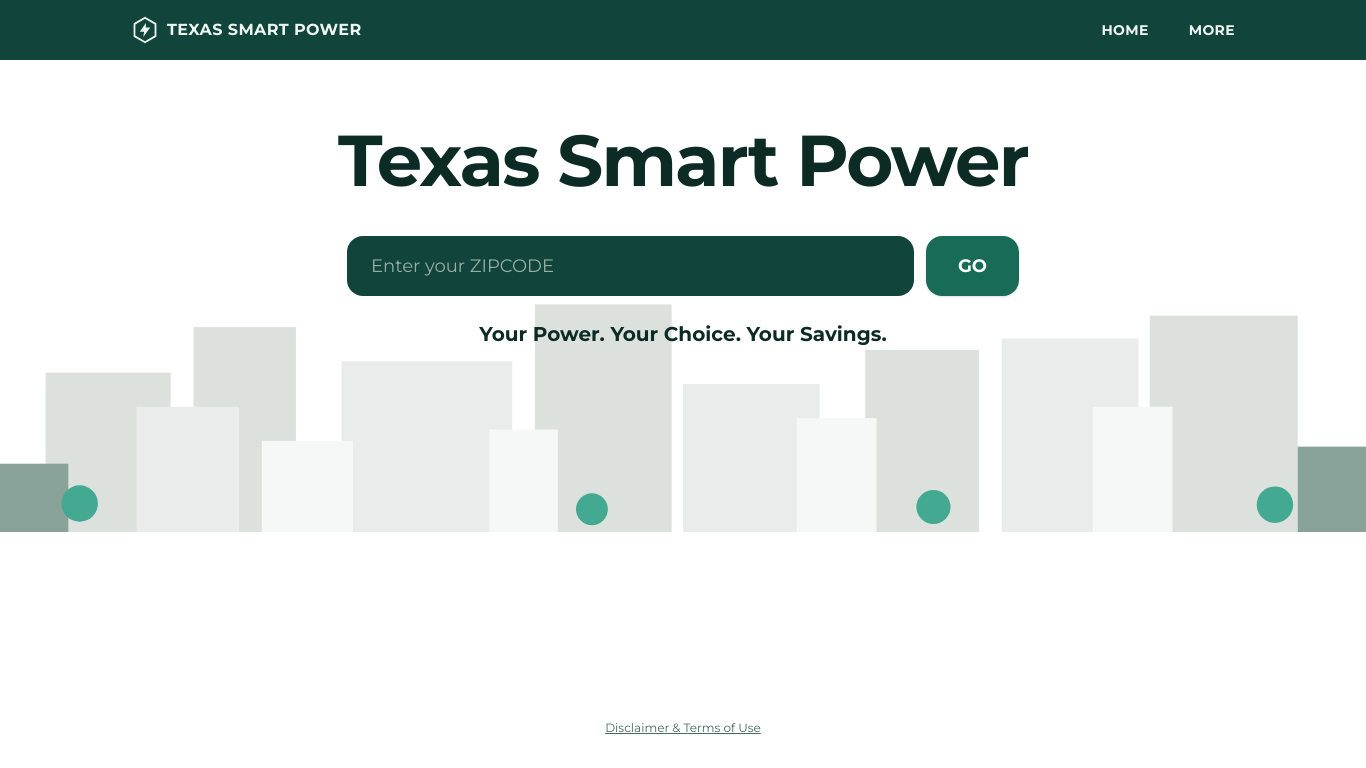
it: changing the ZIP on the plans page stays on the page, keeps usage, and loads the new area
The width and height of the screenshot is (1366, 768).
Type "75201" into the field named "zip code" at x=630, y=266, box x1=347 y1=236 x2=914 y2=296
Click the button "GO" at x=972, y=266, box x1=926 y1=236 x2=1019 y2=296
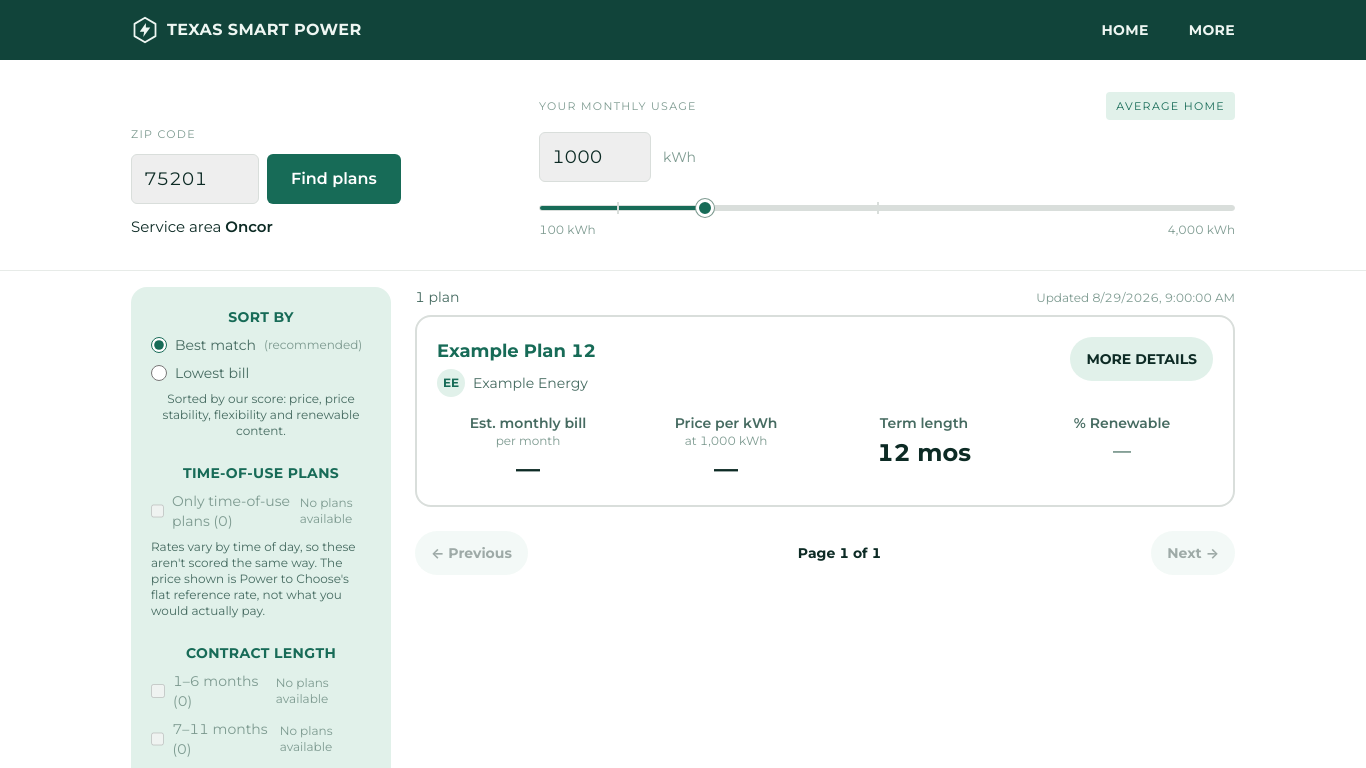
Now the heading "Example Plan 12" is shown, box x1=437 y1=337 x2=596 y2=365
Replace the text in the number field named "monthly usage in kWh" with "750" at x=595, y=157, box x1=539 y1=132 x2=651 y2=182
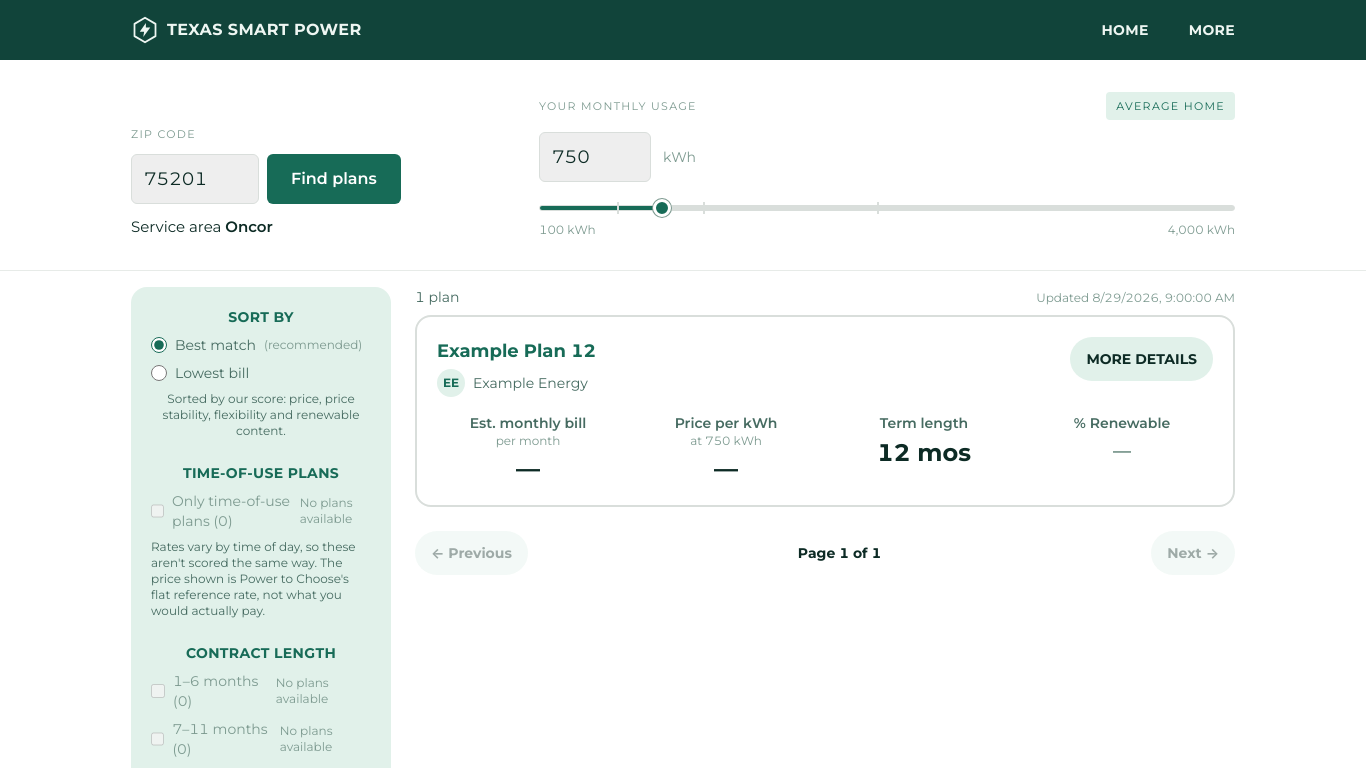
Replace the text in the field labelled "ZIP code" with "99999" at x=195, y=178, box x1=131 y1=154 x2=259 y2=204
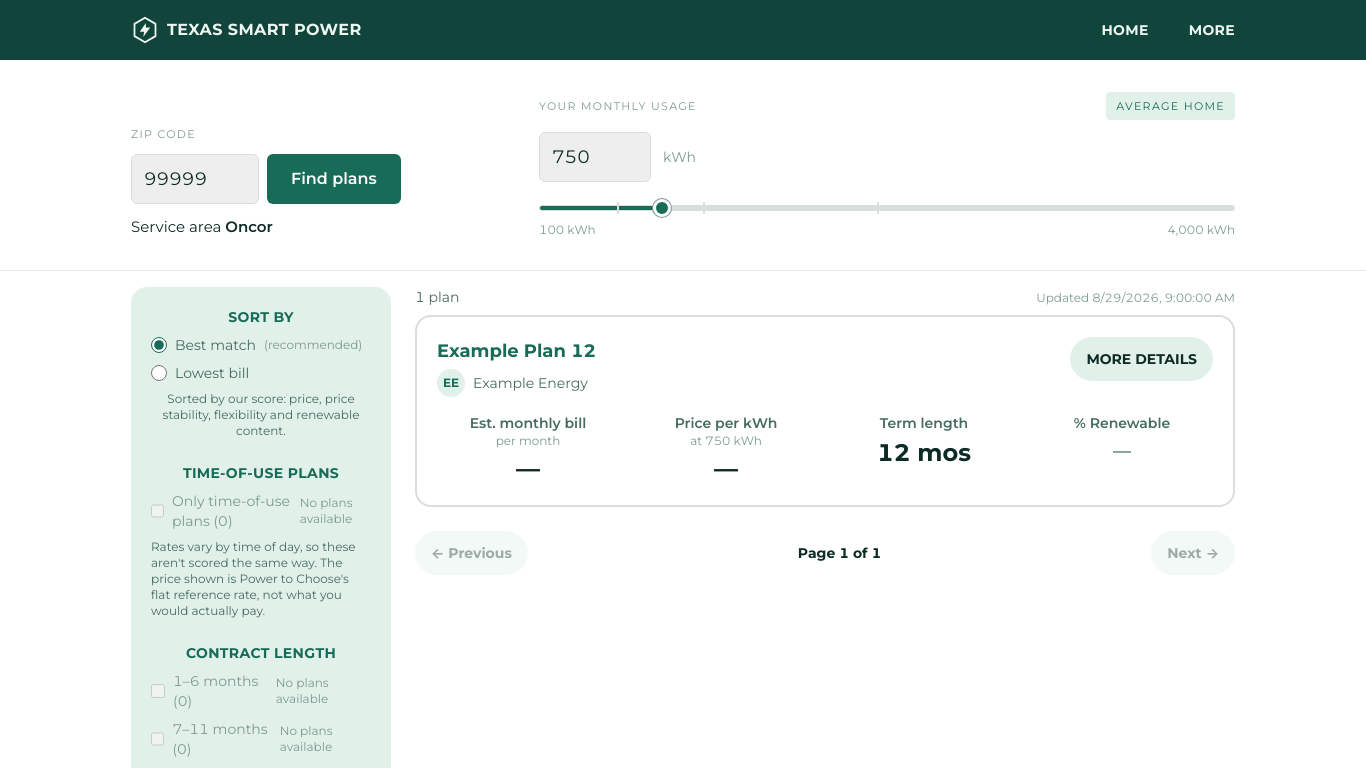
Click the button "Find plans" at x=334, y=178, box x1=267 y1=154 x2=401 y2=204
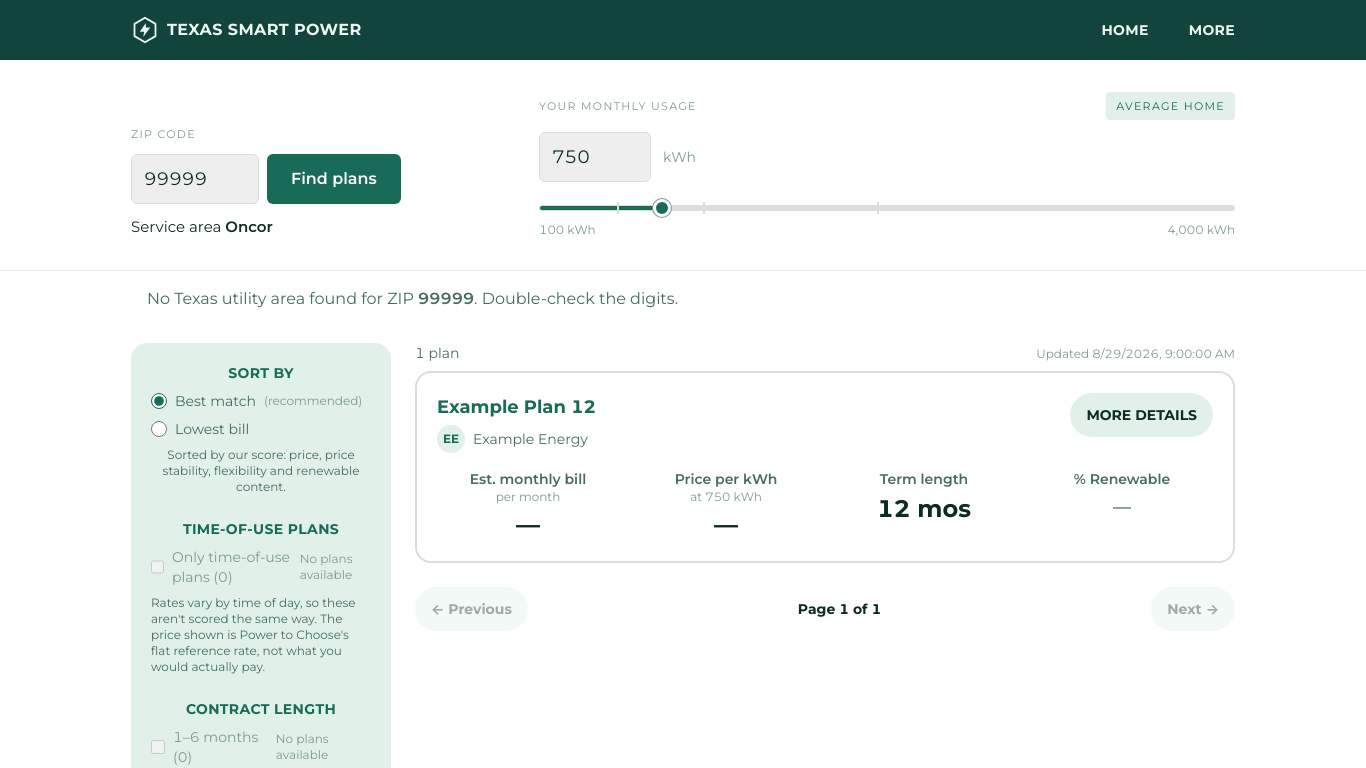
Now the heading "Example Plan 12" is shown, box x1=437 y1=393 x2=596 y2=421
Now the text "No Texas utility area found for ZIP" is shown, box x1=147 y1=289 x2=414 y2=308
Replace the text in the field labelled "ZIP code" with "77002" at x=195, y=178, box x1=131 y1=154 x2=259 y2=204
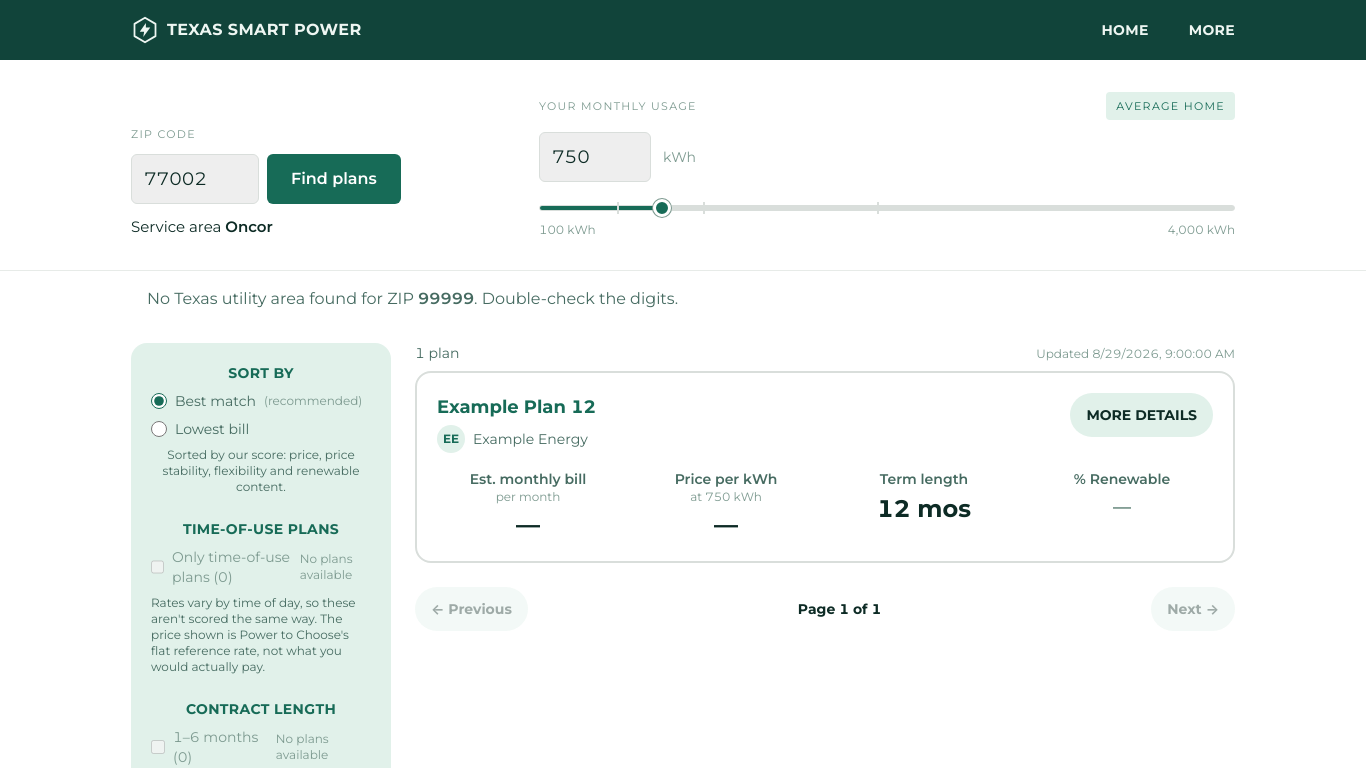
Click the button "Find plans" at x=334, y=178, box x1=267 y1=154 x2=401 y2=204
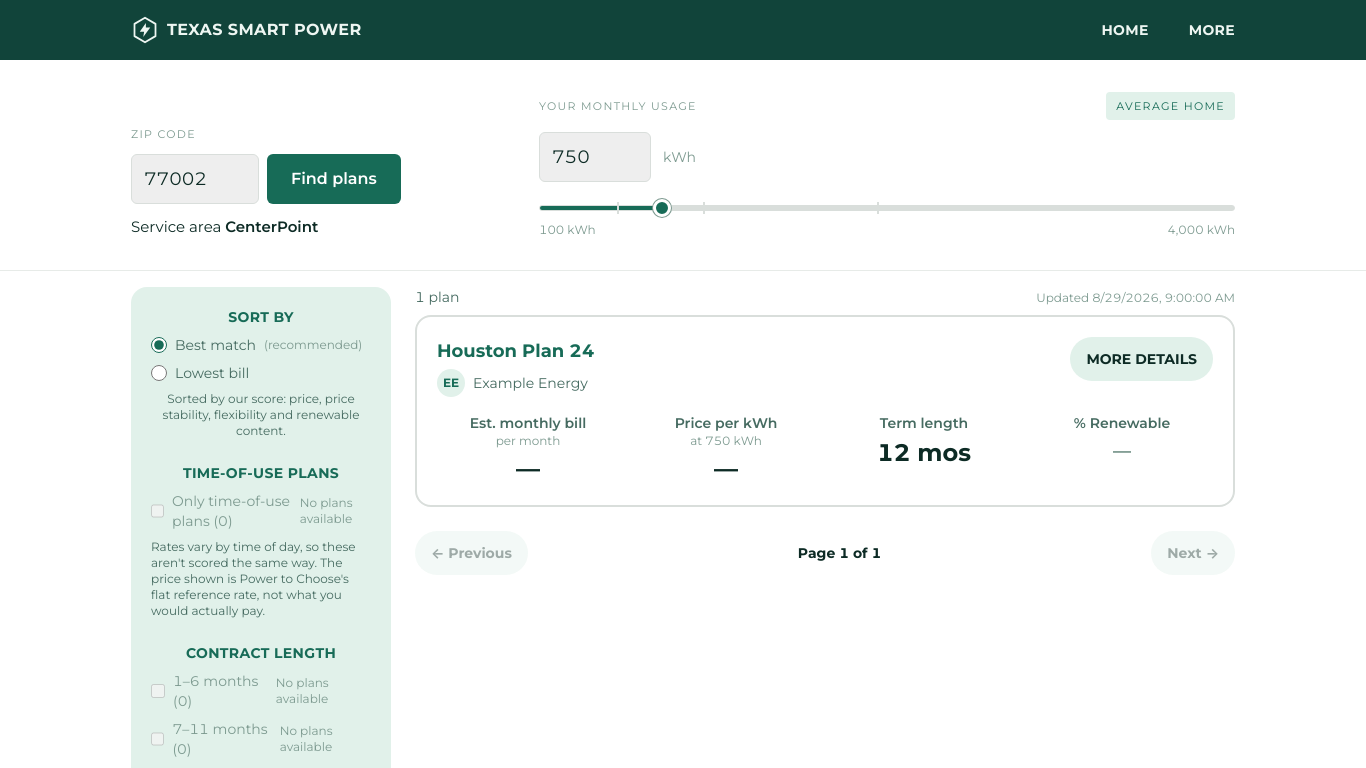
Now the heading "Houston Plan 24" is shown, box x1=437 y1=337 x2=594 y2=365
